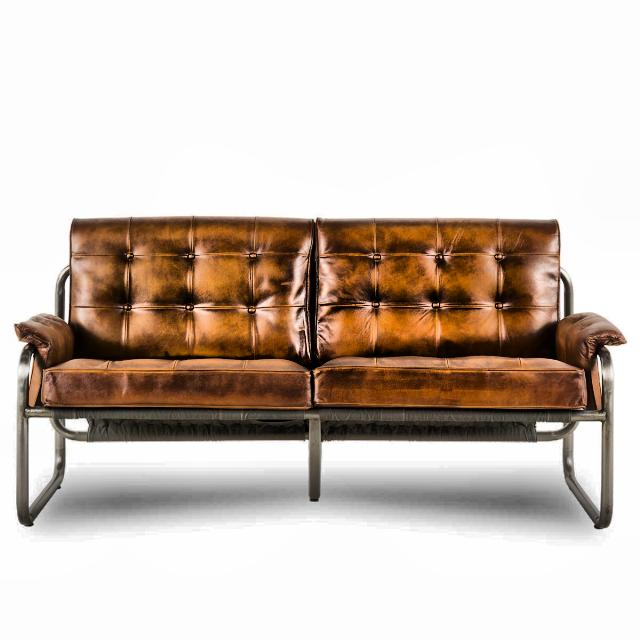sofa: (14, 215, 626, 530)
